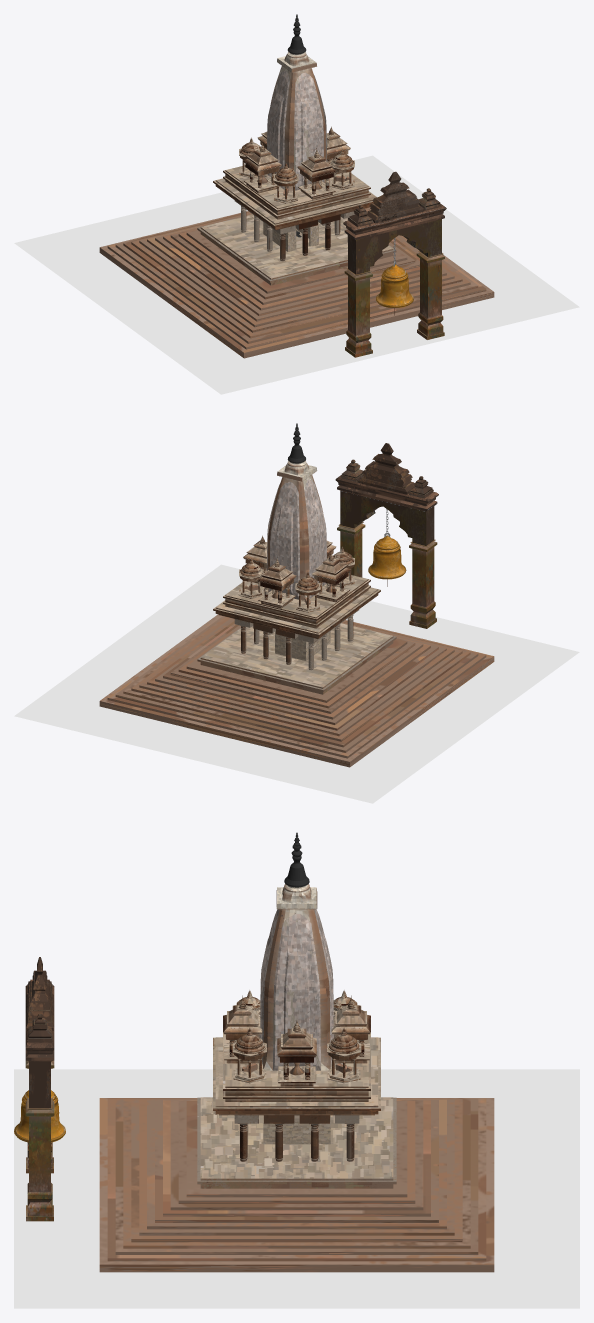
The model's file is hindu_temple_88_62er.glb.
3 renders of one model, top to bottom at view 1: azimuth 30°, elevation 25°; view 2: azimuth 150°, elevation 25°; view 3: azimuth 270°, elevation 25°, orthographic. The views are drawn at different scales.
Parts seen in each view (by area): view 1: Plane_16, Cube.012_9, floor_11, floor.003_12, Cube.002_17, Cube.007_5, Cube.003_18, Cube_3, pillar.001_14, Circle.008_2, Cube.008_6, Cube.005_20 (+6 smaller); view 2: Plane_16, Cube.012_9, floor_11, floor.003_12, Cube.002_17, Cube.007_5, Cube.003_18, Cube_3, pillar_13, pillar.001_14, Circle.008_2, Cube.008_6 (+6 smaller); view 3: Plane_16, Cube.012_9, floor_11, floor.003_12, Cube.008_6, Cube_3, Cube.002_17, pillar.001_14, Circle.001_0, pillar_13, Circle.008_2, Cube.005_20 (+6 smaller).
Boxes of the visible parts, bbox=[...] form: Plane_16: bbox=[14, 155, 579, 394]; Cube.012_9: bbox=[99, 207, 494, 358]; floor_11: bbox=[197, 214, 396, 285]; floor.003_12: bbox=[213, 166, 376, 229]; Cube.002_17: bbox=[344, 250, 444, 357]; Cube.007_5: bbox=[294, 72, 324, 190]; Cube.003_18: bbox=[348, 219, 441, 274]; Cube_3: bbox=[270, 14, 330, 191]; pillar.001_14: bbox=[239, 137, 354, 203]; Circle.008_2: bbox=[243, 126, 350, 193]; Cube.008_6: bbox=[267, 70, 327, 189]; Cube.005_20: bbox=[367, 171, 424, 223]; Plane_16: bbox=[14, 564, 579, 803]; Cube.012_9: bbox=[99, 614, 494, 767]; floor_11: bbox=[197, 623, 396, 694]; floor.003_12: bbox=[213, 575, 380, 638]; Cube.002_17: bbox=[337, 522, 437, 628]; Cube.007_5: bbox=[269, 481, 299, 599]; Cube.003_18: bbox=[340, 490, 434, 545]; Cube_3: bbox=[263, 423, 323, 600]; pillar_13: bbox=[234, 609, 359, 670]; pillar.001_14: bbox=[239, 546, 354, 612]; Circle.008_2: bbox=[243, 535, 350, 602]; Cube.008_6: bbox=[266, 479, 326, 598]; Plane_16: bbox=[14, 1069, 579, 1308]; Cube.012_9: bbox=[99, 1098, 494, 1272]; floor_11: bbox=[197, 1097, 396, 1188]; floor.003_12: bbox=[213, 1032, 380, 1115]; Cube.008_6: bbox=[273, 914, 320, 1070]; Cube_3: bbox=[263, 832, 330, 1070]; Cube.002_17: bbox=[25, 1060, 54, 1221]; pillar.001_14: bbox=[232, 990, 361, 1083]; Circle.001_0: bbox=[223, 995, 370, 1063]; pillar_13: bbox=[234, 1115, 359, 1161]; Circle.008_2: bbox=[277, 1020, 316, 1086]; Cube.005_20: bbox=[26, 957, 53, 1031].
Bounding box in the file's own units: 20.43 × 14.38 × 20.43.
22 materials, 18 textured.
